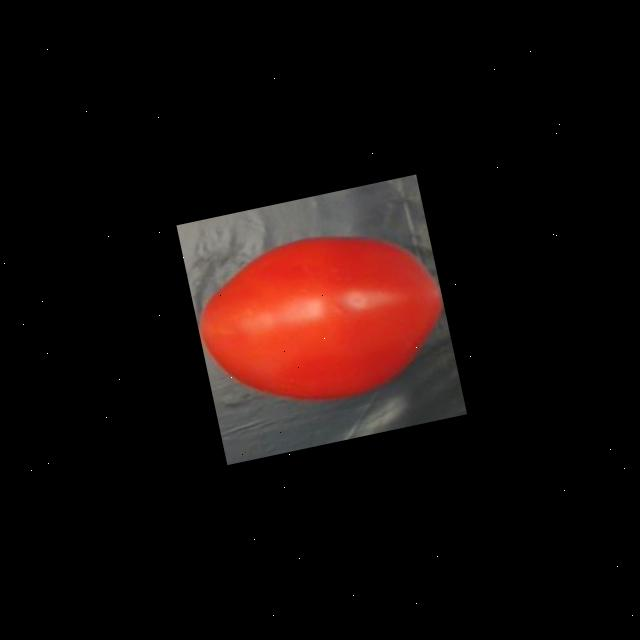tomato: (181, 204, 456, 428)
